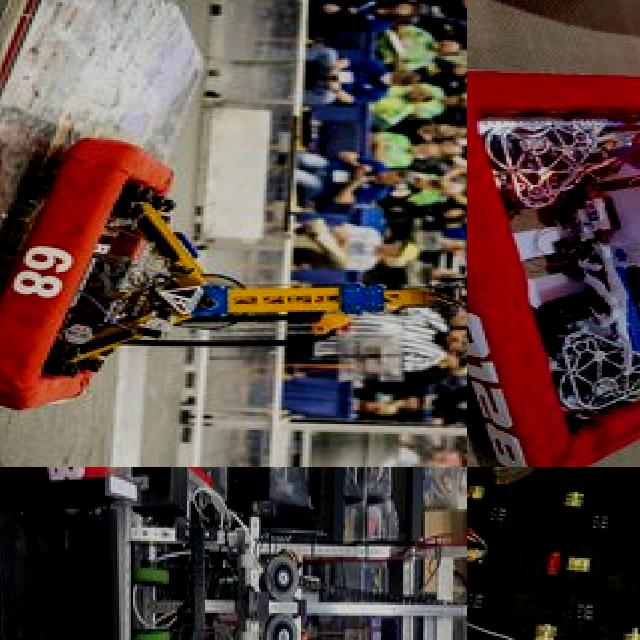FRC-Robots: (0, 121, 467, 443), (23, 467, 467, 640), (467, 24, 640, 467), (467, 467, 537, 640)
